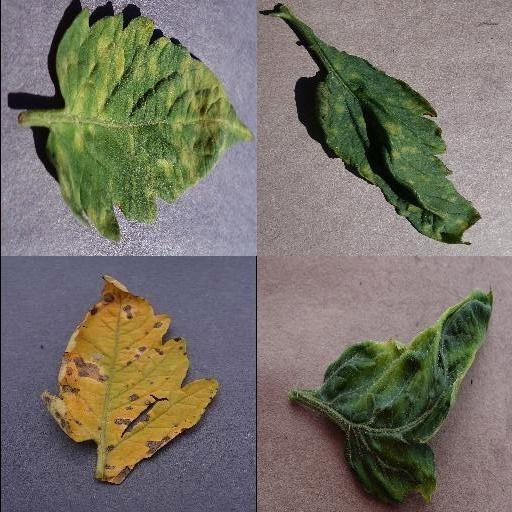Leaf Mold: (45, 6, 253, 242), (314, 51, 482, 244)
Septoria: (42, 275, 218, 485)
Yellow Leaf Curl Virus: (317, 286, 493, 504)
